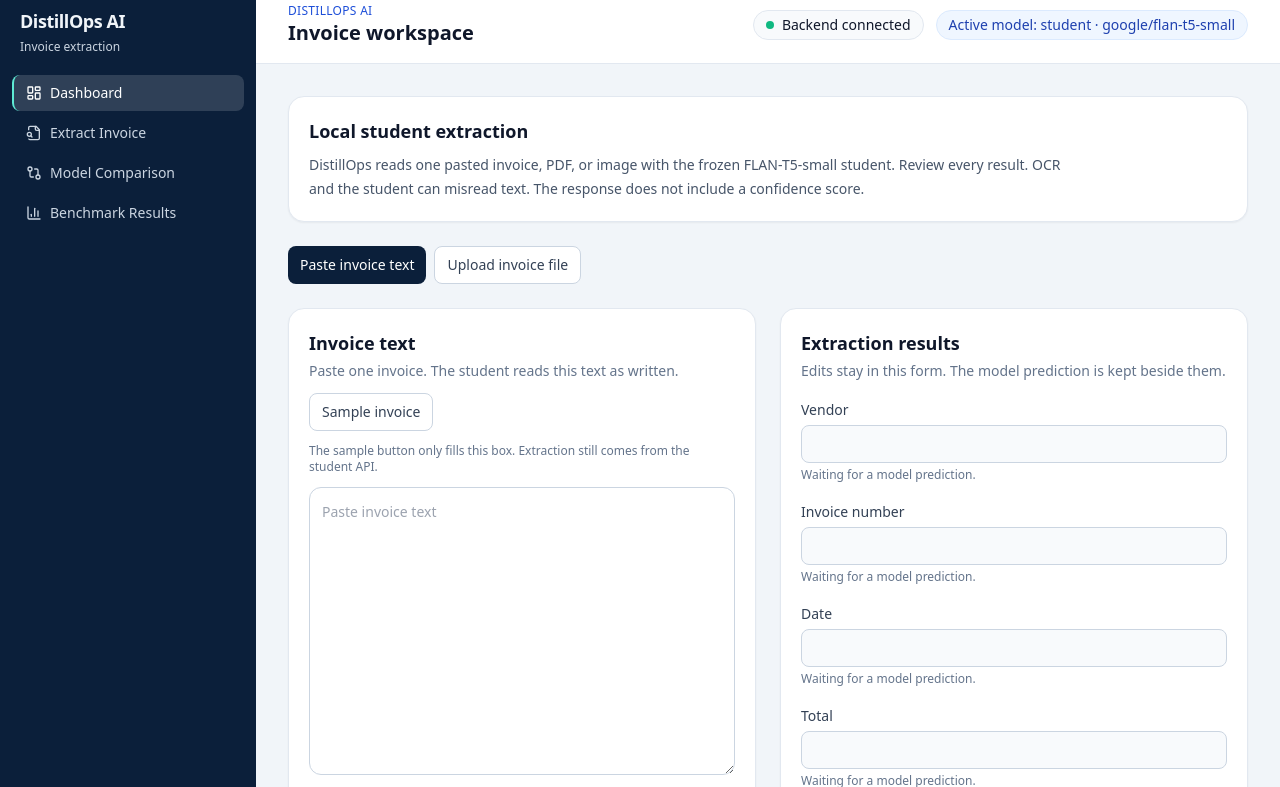
Scenario: DistillOps workspace › shows a loading state while the request is open
Later steps or results of the test are not shown.
Click the button "Sample invoice" at coordinates (371, 412), box [309,393,434,431]
(page scrolled)
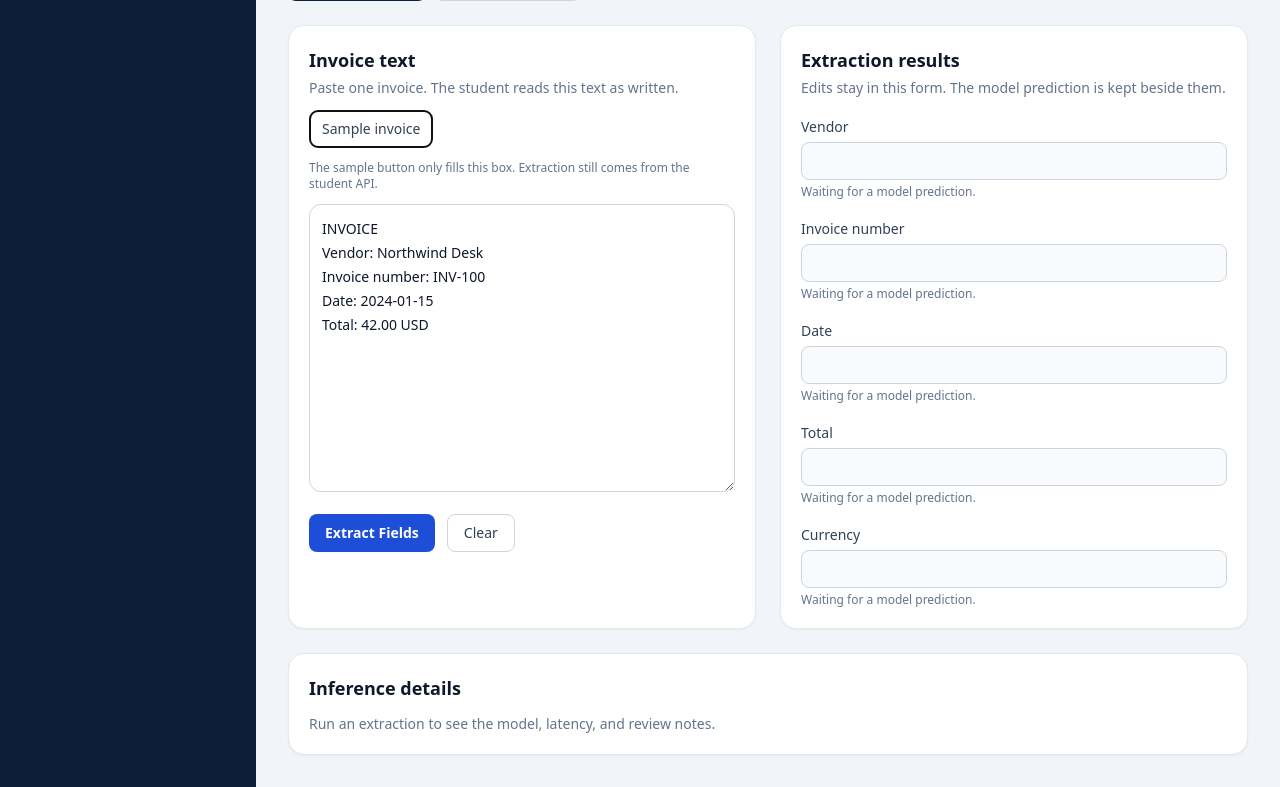
Click the button "Extract Fields" at coordinates (372, 533), box [309,514,435,552]
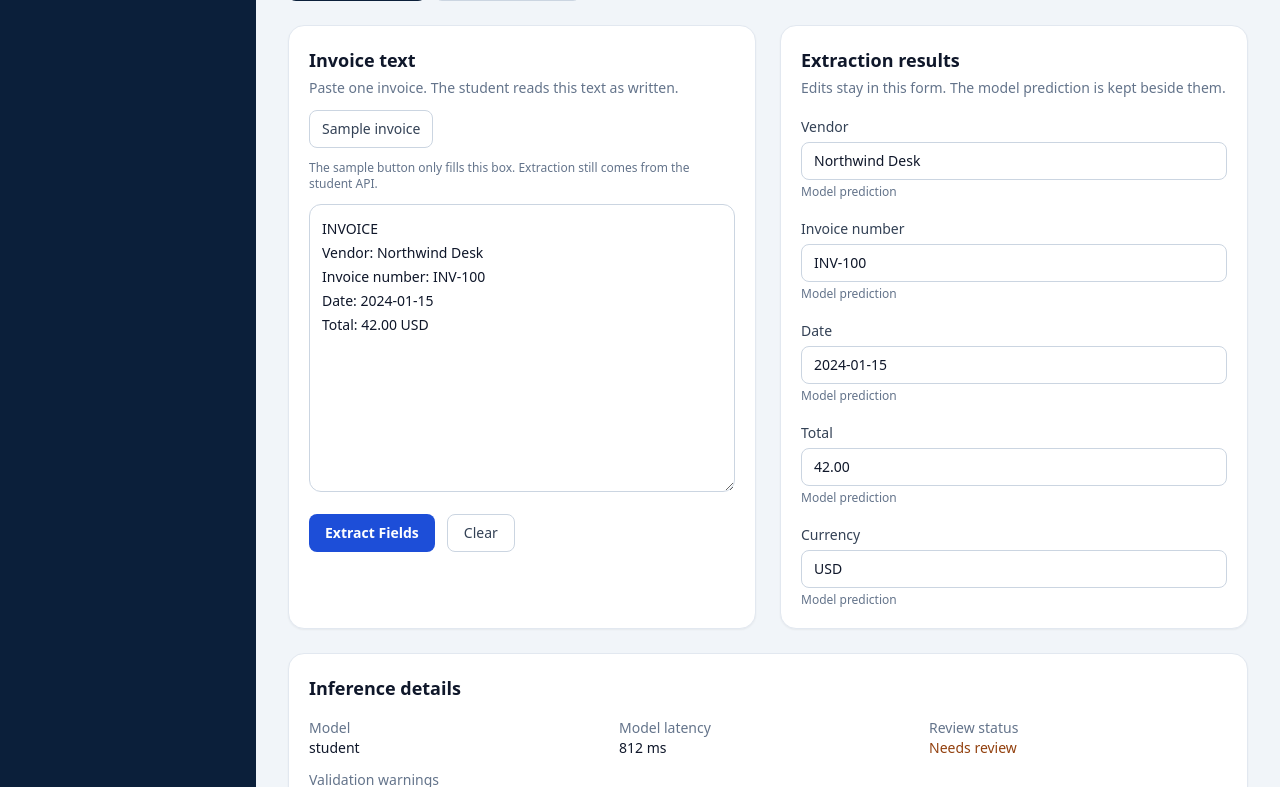
Expected: the text "Needs review" is shown, [929,738,1017,757]
